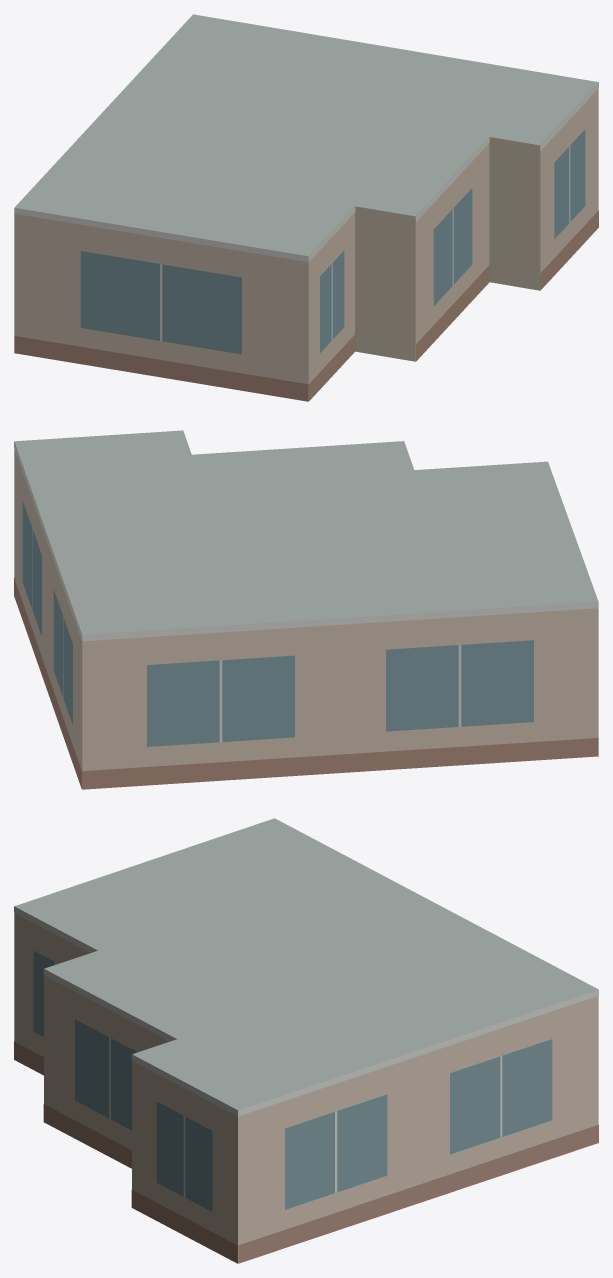
File: survey-upis-33024203.glb
3 renders of one model, top to bottom at view 1: azimuth 30°, elevation 25°; view 2: azimuth 150°, elevation 25°; view 3: azimuth 270°, elevation 25°, orthographic. The views are drawn at different scales.
Visible parts, largest first — view 1: survey-upis-33024203.tmp; view 2: survey-upis-33024203.tmp; view 3: survey-upis-33024203.tmp.
Part boxes in pixels (x1,y1,x2,y2): survey-upis-33024203.tmp: (14,14,598,401); survey-upis-33024203.tmp: (14,430,598,789); survey-upis-33024203.tmp: (14,818,598,1263).
Bounding box in the file's own units: 12.46 × 3.05 × 10.54.
